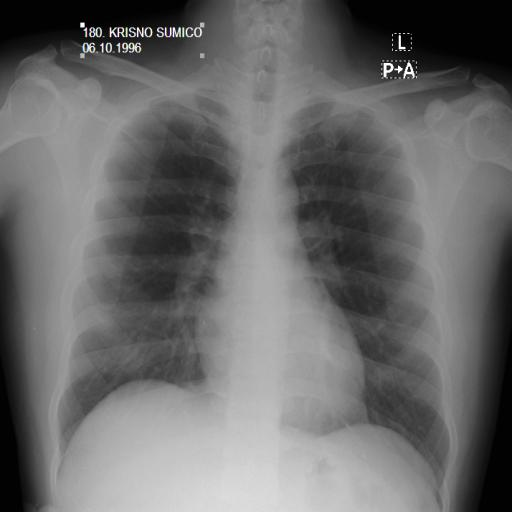normal: (48, 74, 456, 507)
